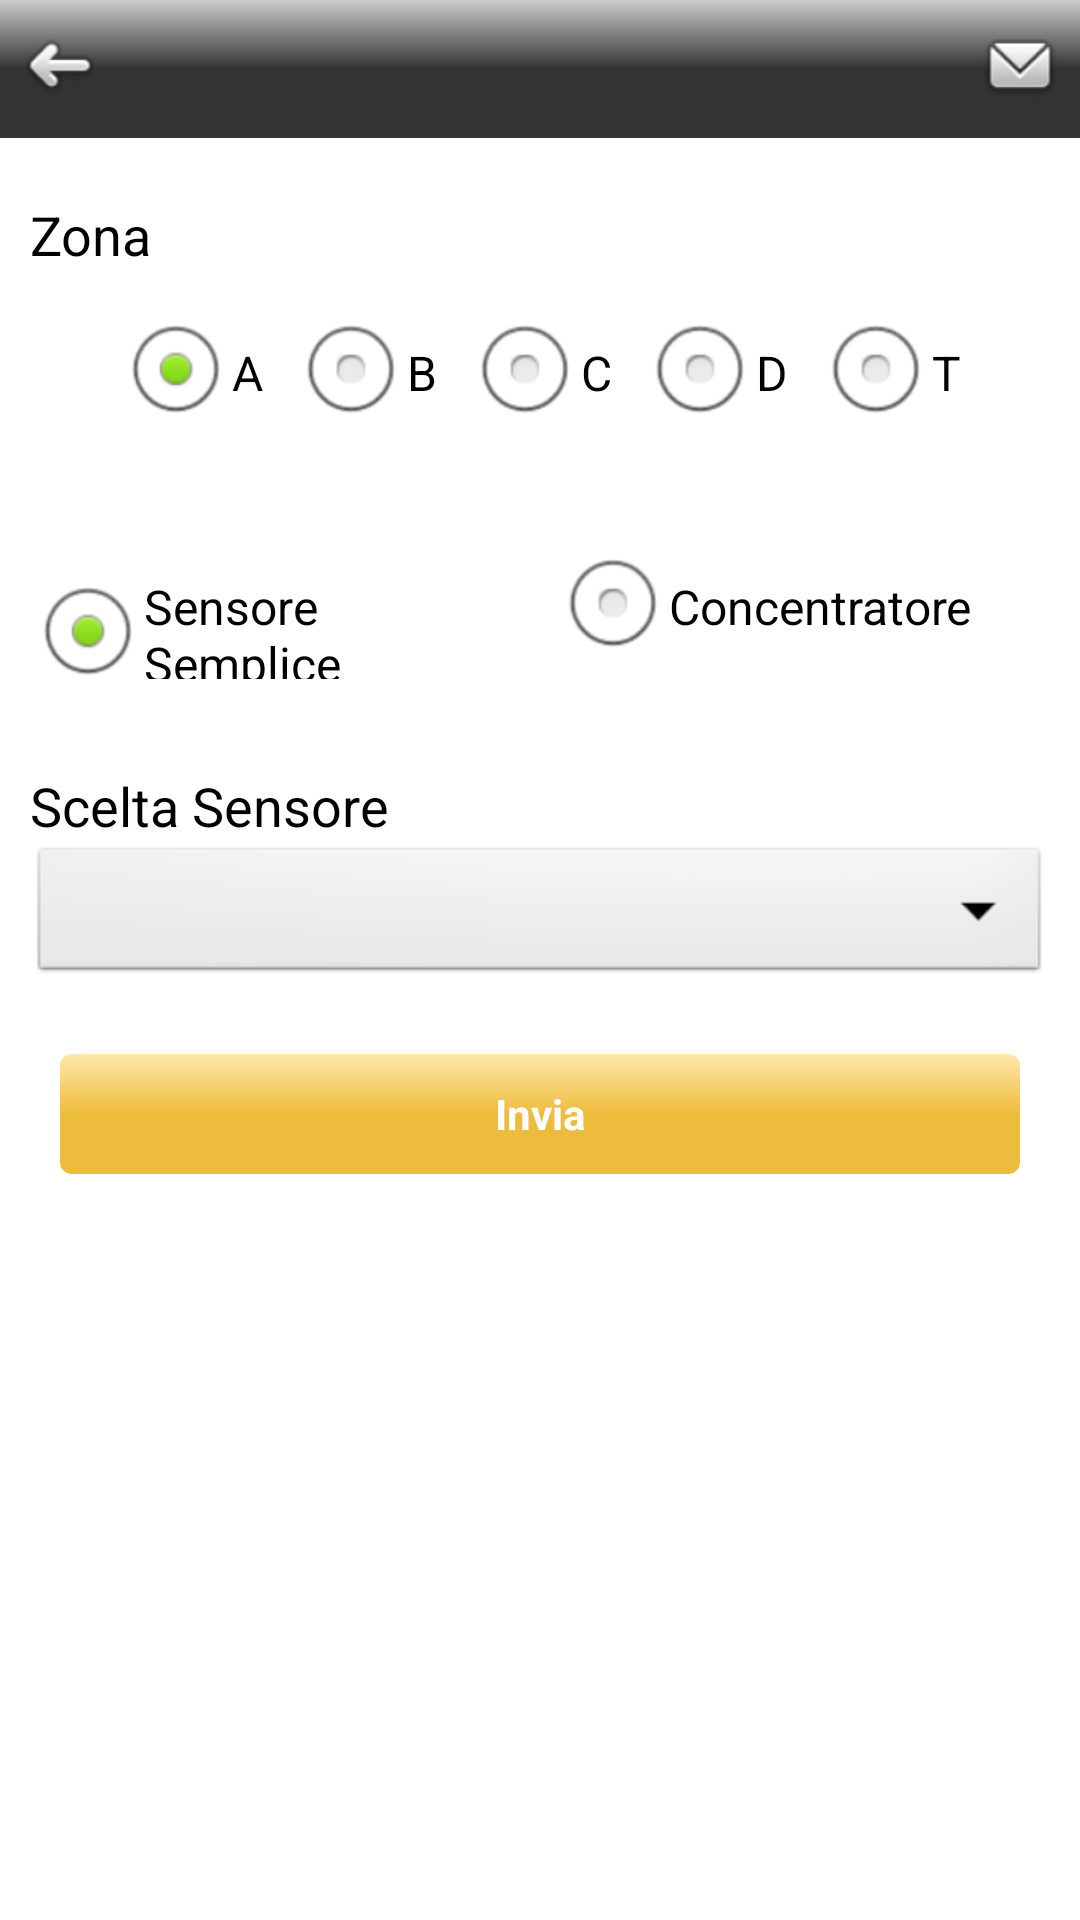

Screen size 1080 x 1920. Icon name, then its center in pixels as (x=x, y=y):
back: (x=60, y=69)
send: (x=1020, y=69)
